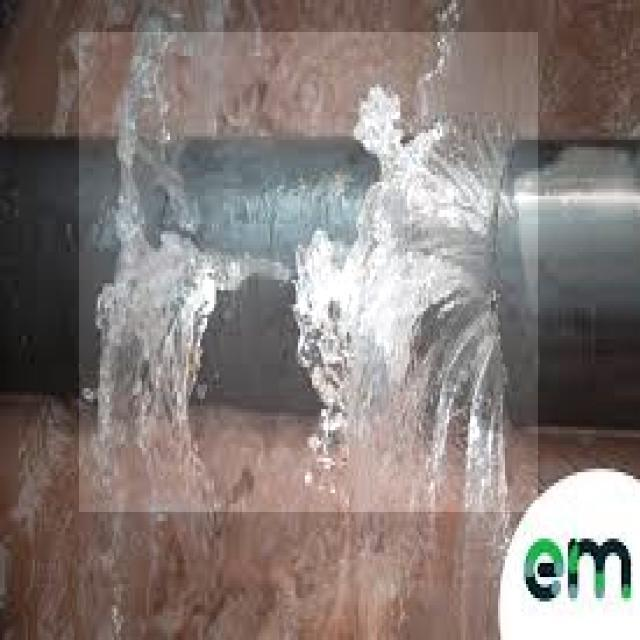corrosion: (95, 202, 268, 406)
